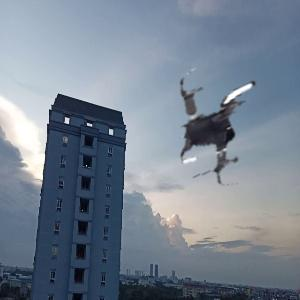drone: (158, 58, 292, 192)
